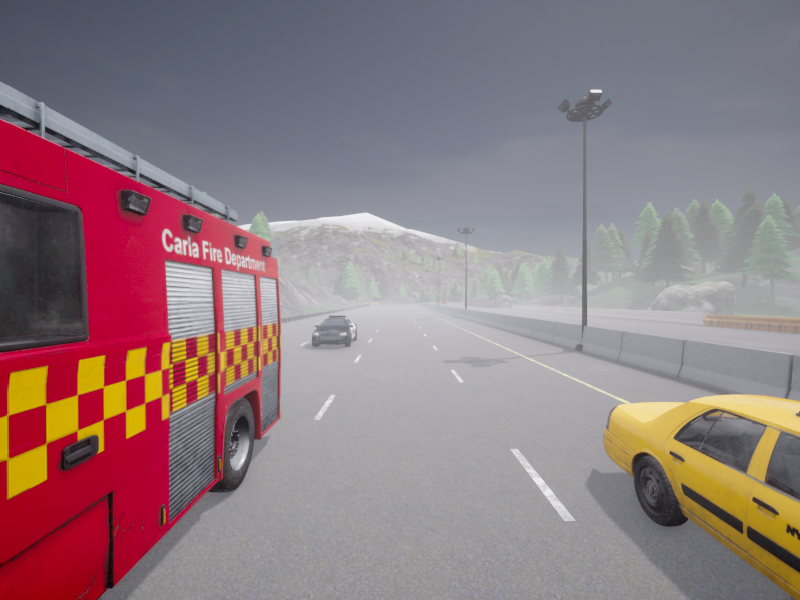vehicle: (0, 81, 280, 599), (603, 395, 799, 599), (312, 315, 356, 346), (442, 300, 448, 303)
